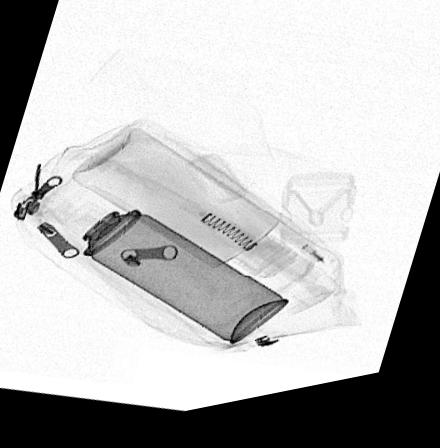Sprayer: (42, 185, 292, 354)
